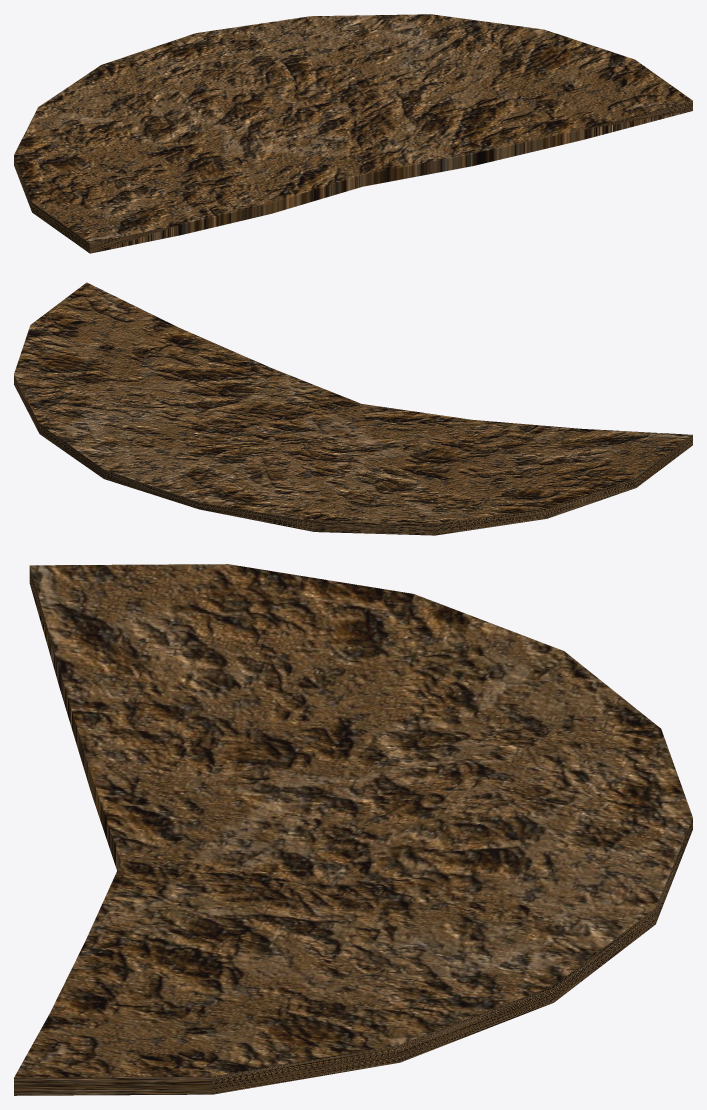
File: Sludge_In_Tank.FBX
The picture shows the model from 3 angles, top to bottom: view 1: azimuth 30°, elevation 25°; view 2: azimuth 150°, elevation 25°; view 3: azimuth 270°, elevation 25°; orthographic projection. The views are drawn at different scales.
Visible parts, largest first — view 1: Cylinder001; view 2: Cylinder001; view 3: Cylinder001.
Part boxes in pixels (x1=…): Cylinder001: x1=14, y1=14, x2=692, y2=253; Cylinder001: x1=14, y1=282, x2=692, y2=535; Cylinder001: x1=14, y1=564, x2=692, y2=1095.
Size of the model in its own units: 20.43 by 1.27 by 11.42.
1 material, 1 textured.
